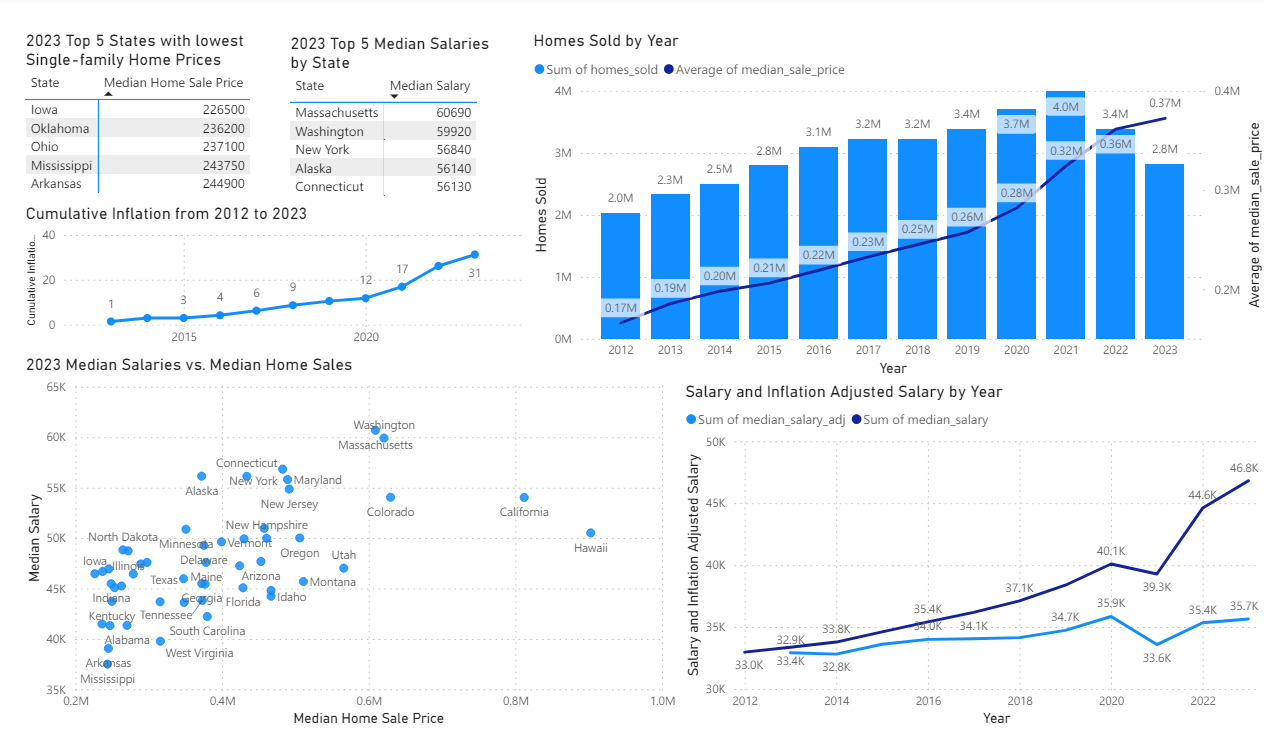

The page's visual inventory and layout, read from the dashboard file:
{"tool":"powerbi","page":{"name":"dashboard","canvas":[1280,720],"ordinal":0},"visuals":[{"type":"lineChart","title":"Cumulative Inflation from 2012 to 2023","fields":{"Category":["grouped_year.year"],"Y":["Sum(grouped_year.cumulative_inflation_since_2012)"]},"box":[0,176.7,522.2,156.7],"z":0},{"type":"scatterChart","title":"2023 Median Salaries vs. Median Home Sales","fields":{"X":["Sum(grouped_year_state.median_sale_price)"],"Category":["grouped_year_state.state"],"Y":["Sum(grouped_year_state.median_salary)"]},"box":[0,333.3,677.8,386.7],"z":1000},{"type":"lineStackedColumnComboChart","title":"Homes Sold by Year","fields":{"Category":["grouped_year.year"],"Y":["Sum(grouped_year.homes_sold)"],"Y2":["Avg(grouped_year.median_sale_price)"]},"box":[522.2,0,757.8,360],"z":2000},{"type":"pivotTable","title":"2023 Top 5 Median Salaries by State","fields":{"Rows":["grouped_year_state.state"],"Values":["Sum(grouped_year_state.median_salary)"]},"box":[272.2,3.3,222.2,173.3],"z":3000},{"type":"lineChart","title":"Salary and Inflation Adjusted Salary by Year","fields":{"Category":["grouped_year.year"],"Y":["Sum(grouped_year.median_salary_adj)","Sum(grouped_year.median_salary)"]},"box":[677.8,360,602.2,360],"z":4000},{"type":"pivotTable","title":"2023 Top 5 States with lowest Single-family Home Prices","fields":{"Rows":["grouped_year_state.state"],"Values":["Sum(grouped_year_state.median_sale_price)"]},"box":[0,0,272.2,172.2],"z":5000}]}

Visuals, with their boxes on the page's 1280x720 design canvas (x1, y1, x2, y2). These are canvas units, not pixel positions in the 1264x747 screenshot, which may show the page scaled, cropped or inside an application window:
"Cumulative Inflation from 2012 to 2023" lineChart: rect(0, 177, 522, 333)
"2023 Median Salaries vs. Median Home Sales" scatterChart: rect(0, 333, 678, 720)
"Homes Sold by Year" lineStackedColumnComboChart: rect(522, 0, 1280, 360)
"2023 Top 5 Median Salaries by State" pivotTable: rect(272, 3, 494, 177)
"Salary and Inflation Adjusted Salary by Year" lineChart: rect(678, 360, 1280, 720)
"2023 Top 5 States with lowest Single-family Home Prices" pivotTable: rect(0, 0, 272, 172)
